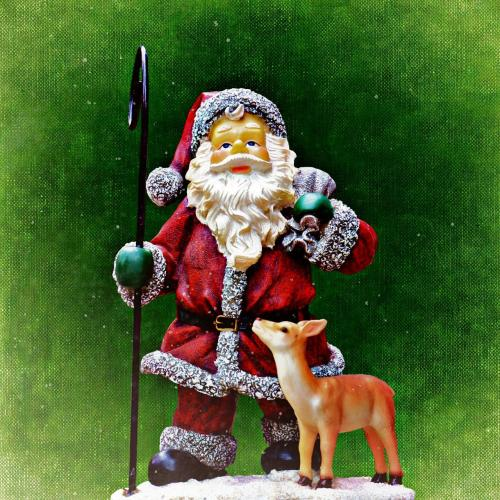Santa: (113, 85, 379, 484)
